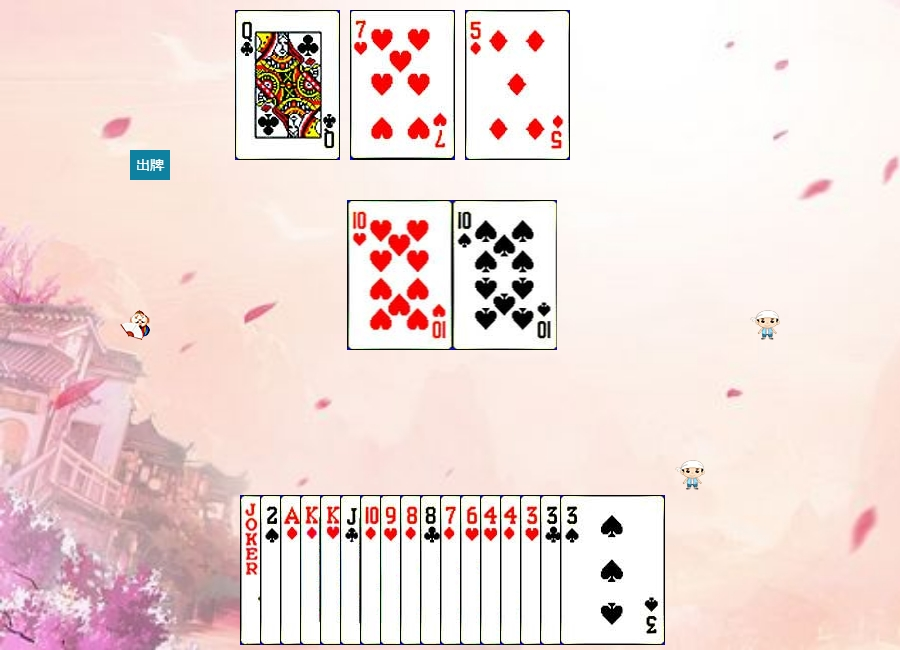10~1: (360, 495, 465, 645)
10~3: (348, 200, 453, 350)
10~4: (453, 200, 558, 350)
11~2: (340, 495, 445, 645)
12~2: (235, 10, 340, 160)
13~1: (300, 495, 405, 645)
13~3: (320, 495, 425, 645)
14~1: (280, 495, 385, 645)
15~4: (260, 495, 365, 645)
18~4: (240, 495, 345, 645)
3~2: (540, 495, 645, 645)
3~3: (520, 495, 625, 645)
3~4: (560, 495, 665, 645)
4~1: (500, 495, 605, 645)
4~3: (480, 495, 585, 645)
5~1: (465, 10, 570, 160)
6~3: (460, 495, 565, 645)
7~1: (440, 495, 545, 645)
7~3: (350, 10, 455, 160)
8~1: (400, 495, 505, 645)
8~2: (420, 495, 525, 645)
9~3: (380, 495, 485, 645)
